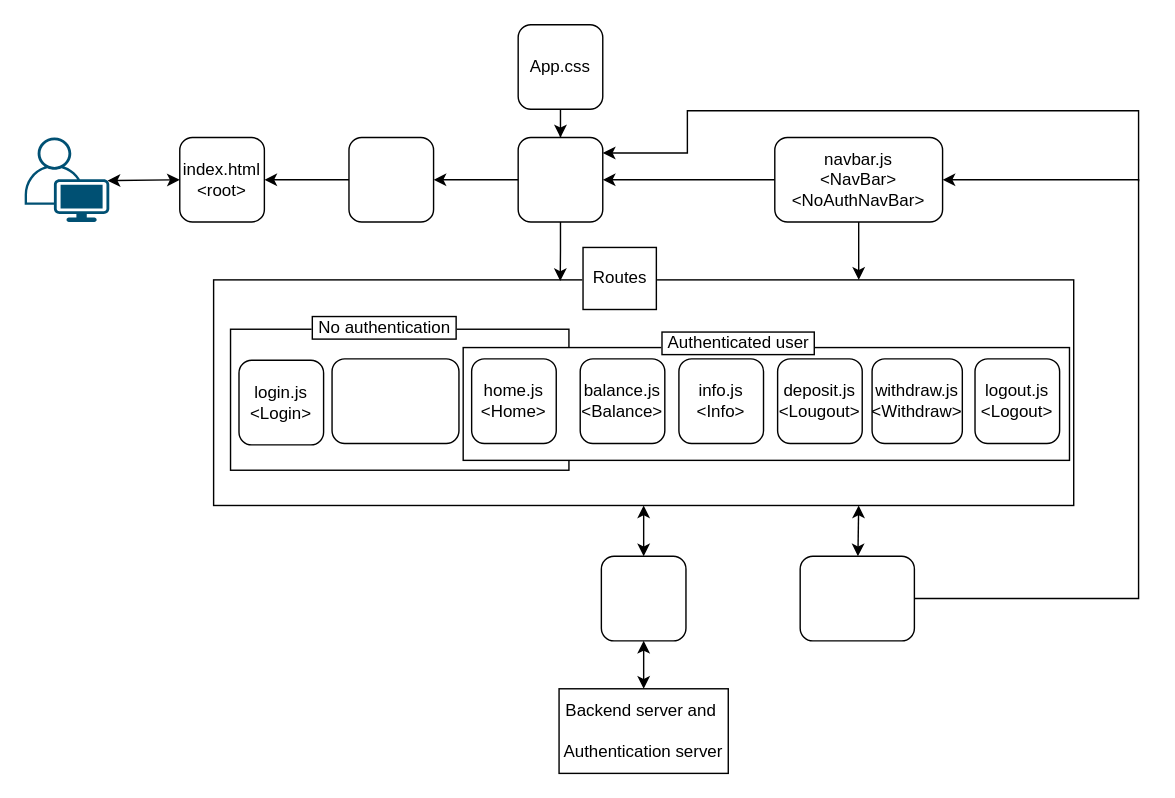
Some shapes in this 1175 by 798 pixel diagram are drawn without their labels. The shapes that lost their labels are listed below. From the top down, each one's box as (x1, y1, x2, y2) in pixels, then its label:
(348, 136, 434, 222): index.js
(517, 136, 603, 222): App.js <App>
(331, 357, 459, 443): creataccount.js <CreatAccount>
(600, 555, 686, 641): api.js
(799, 555, 914, 641): context.js user context
